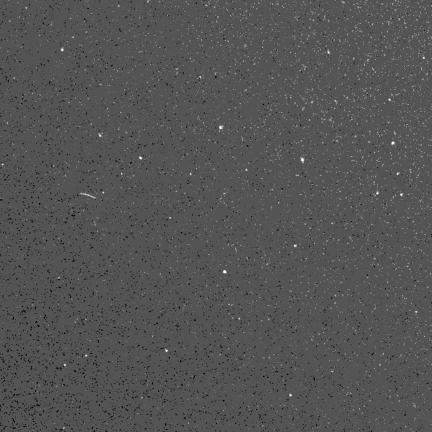blob: (219, 126, 224, 130), (400, 193, 404, 197), (301, 157, 304, 162), (139, 157, 143, 160), (165, 349, 168, 353), (64, 364, 67, 368), (99, 133, 102, 137), (294, 244, 297, 248), (289, 394, 293, 397), (392, 141, 395, 145), (376, 192, 380, 195), (397, 173, 400, 176), (389, 99, 392, 102), (415, 311, 418, 314), (223, 270, 226, 273), (190, 173, 192, 176), (61, 48, 63, 51)
streak: (80, 193, 96, 198)
